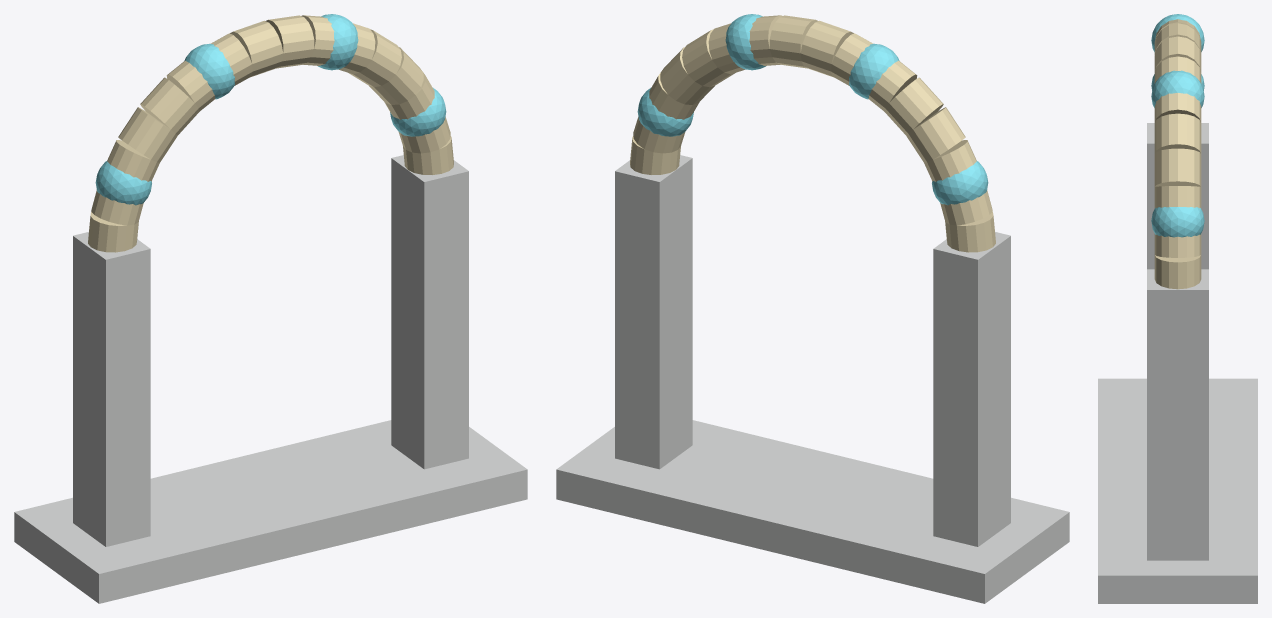
The model's file is resonance-arch.glb.
The picture shows the model from 3 angles, left to right: view 1: azimuth 30°, elevation 25°; view 2: azimuth 150°, elevation 25°; view 3: azimuth 270°, elevation 25°; orthographic projection. The views are drawn at different scales.
Visible parts, largest first — view 1: resonance-arch-22, resonance-arch-0, resonance-arch-1, resonance-arch-6, resonance-arch-5, resonance-arch-9, resonance-arch-10, resonance-arch-18, resonance-arch-19, resonance-arch-13, resonance-arch-2, resonance-arch-14 (+11 smaller); view 2: resonance-arch-22, resonance-arch-0, resonance-arch-1, resonance-arch-6, resonance-arch-5, resonance-arch-9, resonance-arch-10, resonance-arch-18, resonance-arch-19, resonance-arch-13, resonance-arch-2, resonance-arch-14 (+11 smaller); view 3: resonance-arch-22, resonance-arch-1, resonance-arch-0, resonance-arch-14, resonance-arch-13, resonance-arch-21, resonance-arch-17, resonance-arch-20, resonance-arch-15, resonance-arch-16, resonance-arch-12, resonance-arch-10 (+3 smaller).
Part boxes in pixels (bbox=[...]): resonance-arch-22: bbox=[14, 420, 527, 603]; resonance-arch-0: bbox=[73, 232, 150, 546]; resonance-arch-1: bbox=[391, 155, 468, 469]; resonance-arch-6: bbox=[140, 77, 199, 135]; resonance-arch-5: bbox=[118, 107, 177, 162]; resonance-arch-9: bbox=[230, 20, 283, 77]; resonance-arch-10: bbox=[265, 15, 314, 68]; resonance-arch-18: bbox=[95, 161, 151, 205]; resonance-arch-19: bbox=[184, 43, 234, 99]; resonance-arch-13: bbox=[349, 29, 401, 87]; resonance-arch-2: bbox=[88, 212, 138, 252]; resonance-arch-14: bbox=[369, 47, 423, 104]; resonance-arch-22: bbox=[556, 420, 1069, 603]; resonance-arch-0: bbox=[933, 232, 1010, 546]; resonance-arch-1: bbox=[615, 155, 692, 469]; resonance-arch-6: bbox=[884, 77, 943, 135]; resonance-arch-5: bbox=[906, 107, 965, 162]; resonance-arch-9: bbox=[800, 20, 853, 77]; resonance-arch-10: bbox=[769, 15, 818, 68]; resonance-arch-18: bbox=[932, 161, 988, 205]; resonance-arch-19: bbox=[849, 43, 899, 99]; resonance-arch-13: bbox=[682, 29, 734, 87]; resonance-arch-2: bbox=[945, 212, 995, 252]; resonance-arch-14: bbox=[660, 47, 714, 104]; resonance-arch-22: bbox=[1098, 378, 1257, 603]; resonance-arch-1: bbox=[1147, 269, 1208, 560]; resonance-arch-0: bbox=[1147, 123, 1208, 269]; resonance-arch-14: bbox=[1154, 148, 1201, 186]; resonance-arch-13: bbox=[1154, 113, 1201, 153]; resonance-arch-21: bbox=[1151, 207, 1204, 237]; resonance-arch-17: bbox=[1154, 255, 1201, 289]; resonance-arch-20: bbox=[1151, 70, 1204, 107]; resonance-arch-15: bbox=[1154, 186, 1201, 208]; resonance-arch-16: bbox=[1154, 234, 1201, 257]; resonance-arch-12: bbox=[1154, 93, 1201, 122]; resonance-arch-10: bbox=[1154, 36, 1201, 72].
Size of the model in its own units: 2.1 by 2.33 by 0.72.
